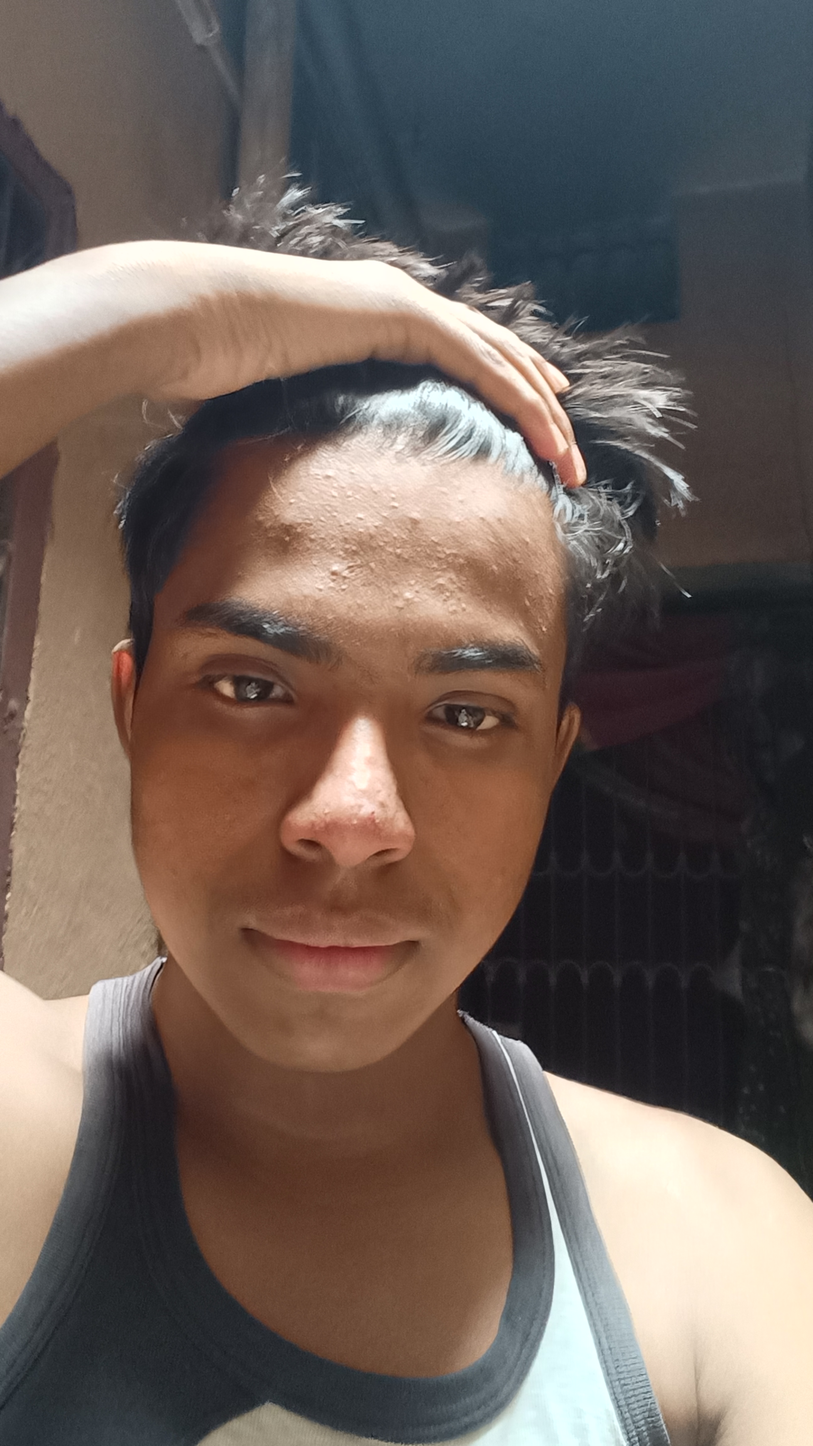macrocomedone: (303, 515, 354, 595), (355, 515, 430, 558), (431, 542, 473, 614), (390, 587, 425, 614), (310, 469, 341, 485), (524, 589, 533, 612)
